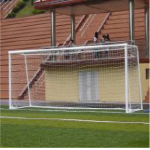goals: (5, 41, 147, 114)
